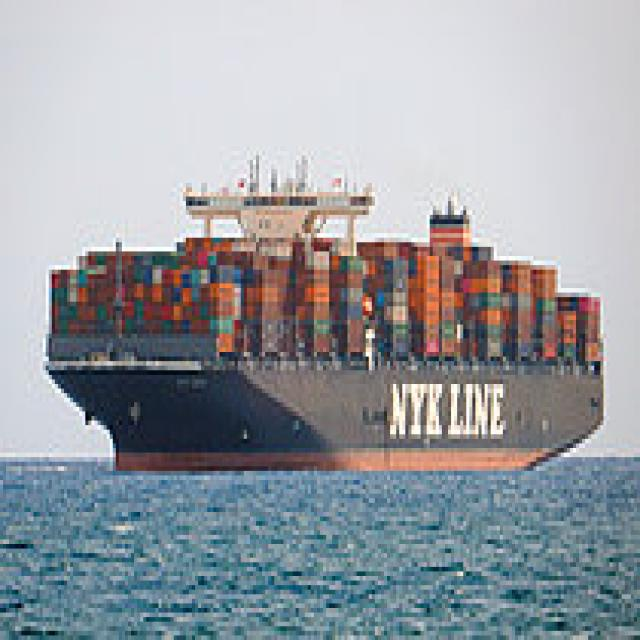Cargo: (36, 146, 604, 471)
